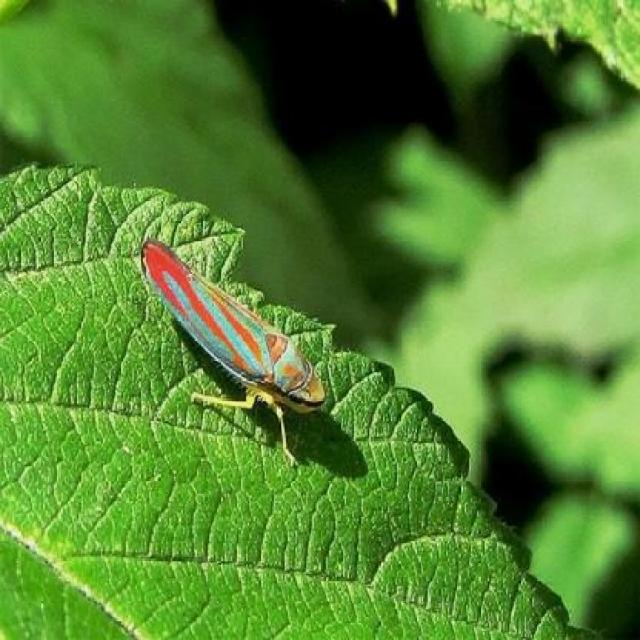green-leafhopper: (146, 238, 325, 460)
